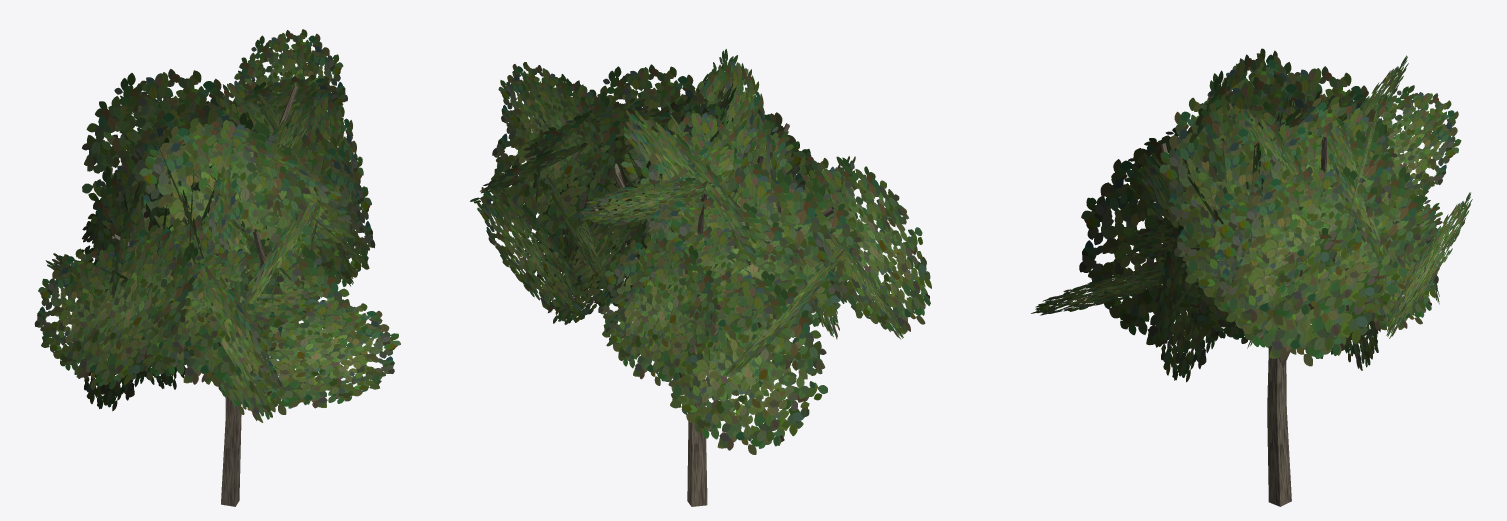
The model's file is CommonTree_3_LOD2.gltf.
3 views of the same model, side by side, from view 1: azimuth 30°, elevation 25°; view 2: azimuth 150°, elevation 25°; view 3: azimuth 270°, elevation 25° (orthographic). The views are drawn at different scales.
Parts seen in each view (by area): view 1: CommonTree_3_LOD2; view 2: CommonTree_3_LOD2; view 3: CommonTree_3_LOD2.
Part boxes in pixels (left/top/right/bottom): CommonTree_3_LOD2: left=34, top=29, right=400, bottom=506; CommonTree_3_LOD2: left=470, top=49, right=931, bottom=506; CommonTree_3_LOD2: left=1031, top=48, right=1472, bottom=506.
Bounding box in the file's own units: 16.27 × 16.73 × 16.77.
Materials: 2 (2 with a texture image).
